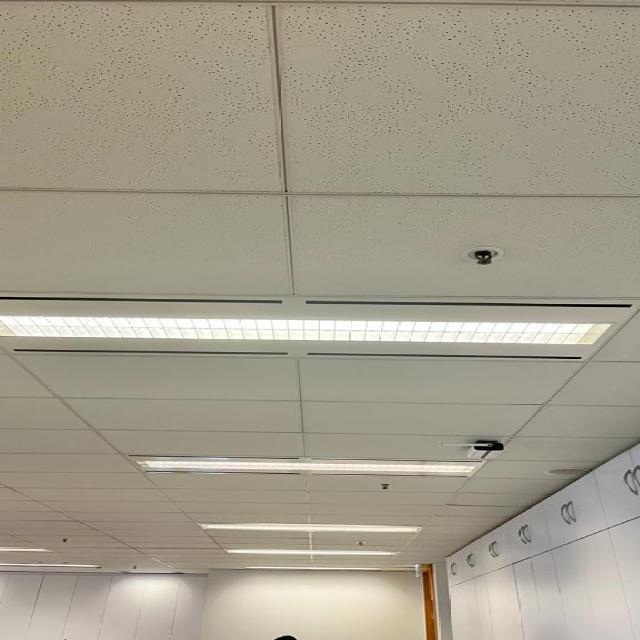Light-Opened: (119, 454, 489, 482)
